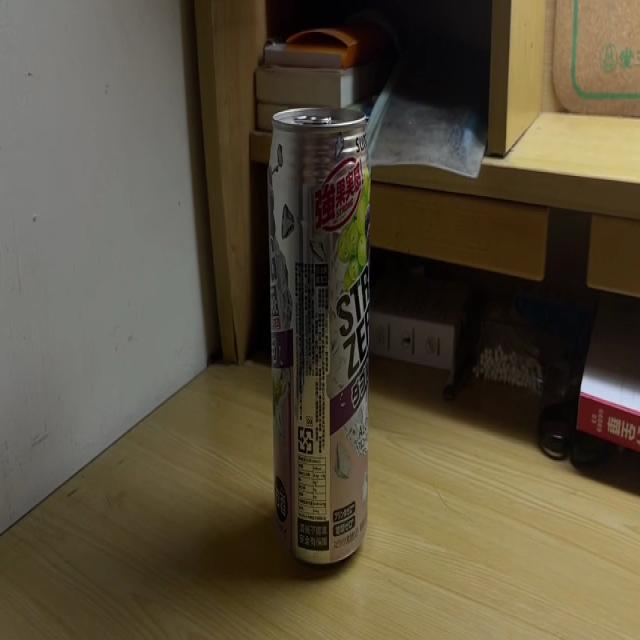Liquor: (266, 105, 372, 572)
